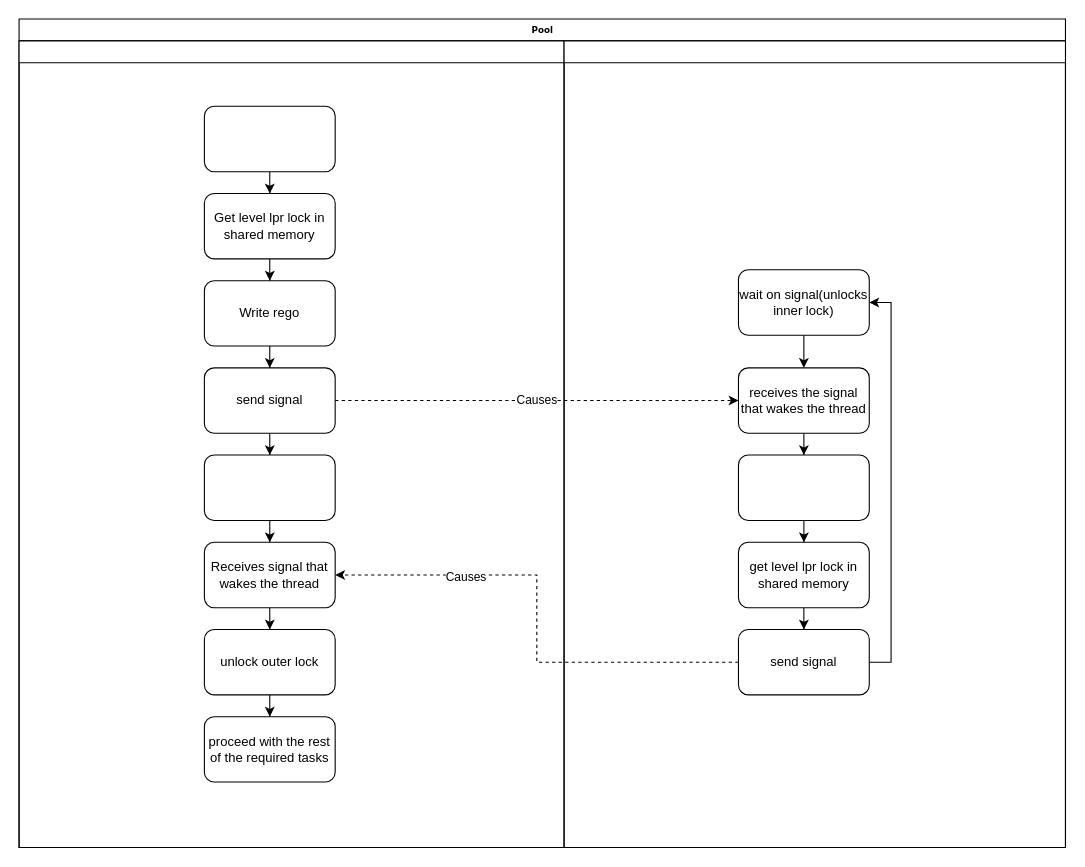
The diagram is 1085 pixels wide and 867 high, and some of its shapes have lost their labels. The box of each missing label's shape, as (x1, y1, x2, y2) in pixels:
(manager) level thread: (563, 40, 1065, 847)
(simulator) car: (18, 40, 564, 847)
do required tasks: (737, 454, 869, 520)
get outer level lock: (203, 105, 335, 172)
wait on signa(unlocks the inner lock)l: (203, 454, 335, 520)
